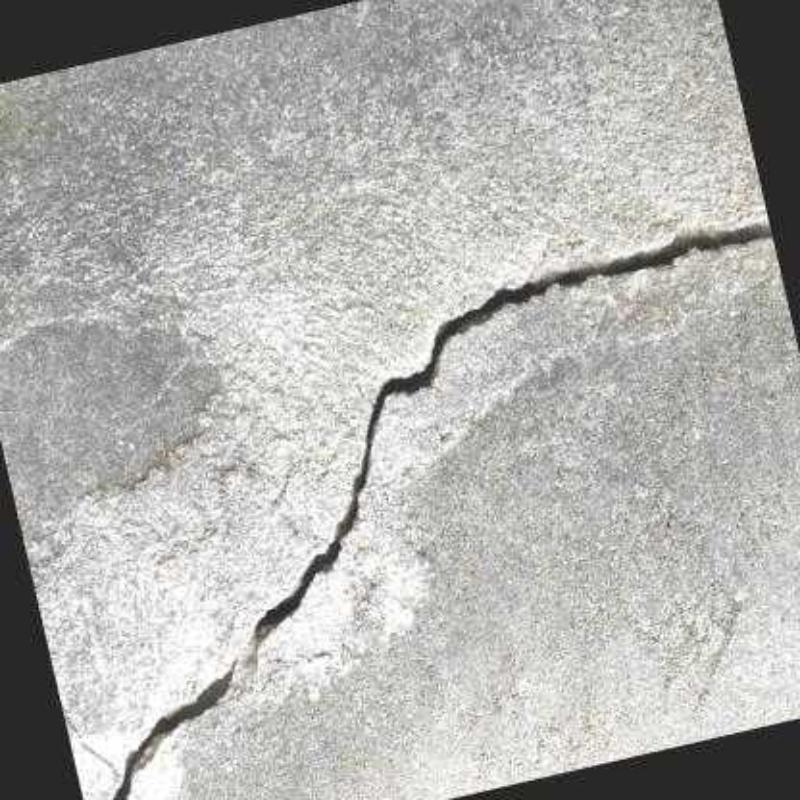crack: (111, 221, 776, 800)
